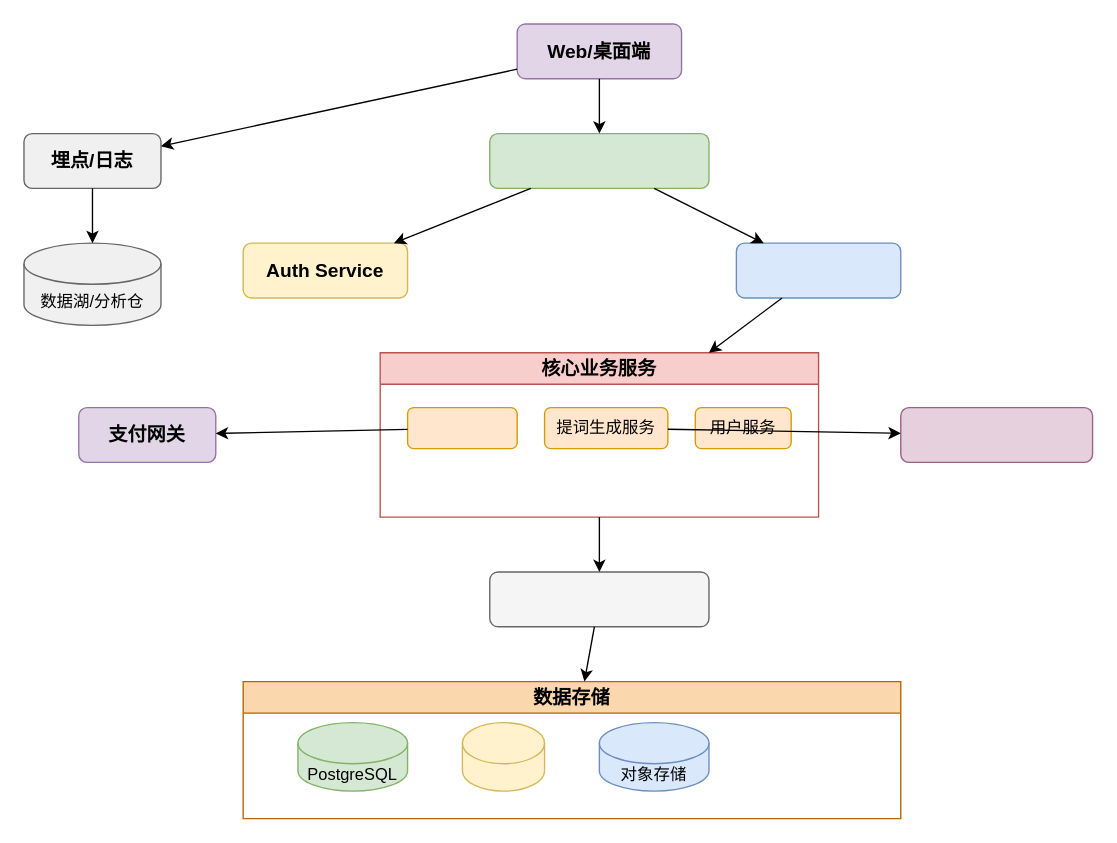
This 1117x843 diagram has some shape labels left out. The shapes that lost their labels are listed below. From the top down, each one's centre as x and y in pixels, then its label:
At pixel 598 160: "API Gateway & CDN".
At pixel 818 270: "Web/桌面 BFF".
At pixel 461 427: "计费服务".
At pixel 996 434: "LLM 模型提供商".
At pixel 598 599: "数据服务层".
At pixel 503 756: "Redis".
